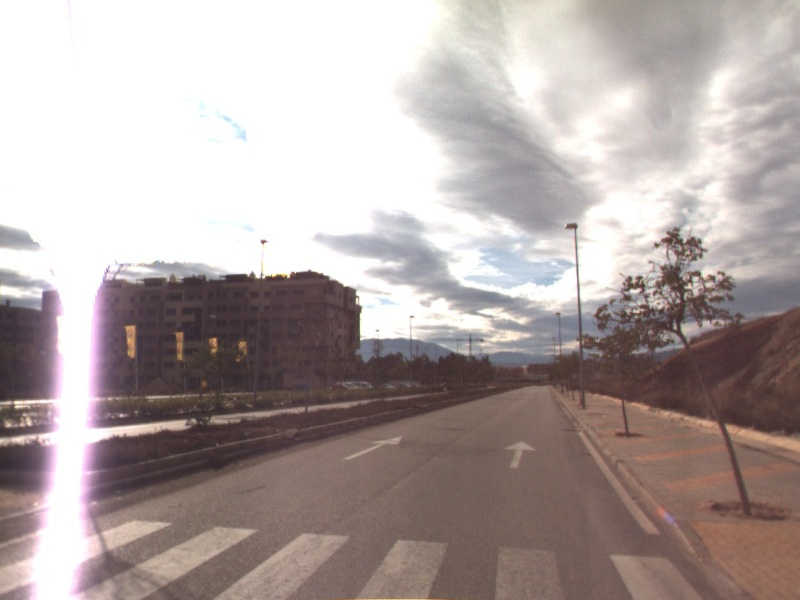STRAIGHT: (342, 434, 405, 461), (502, 438, 539, 470)
